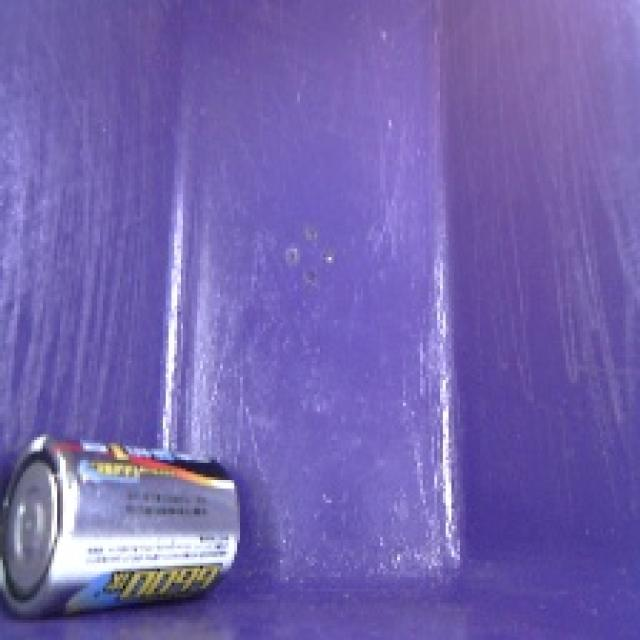battery: (0, 427, 248, 626)
